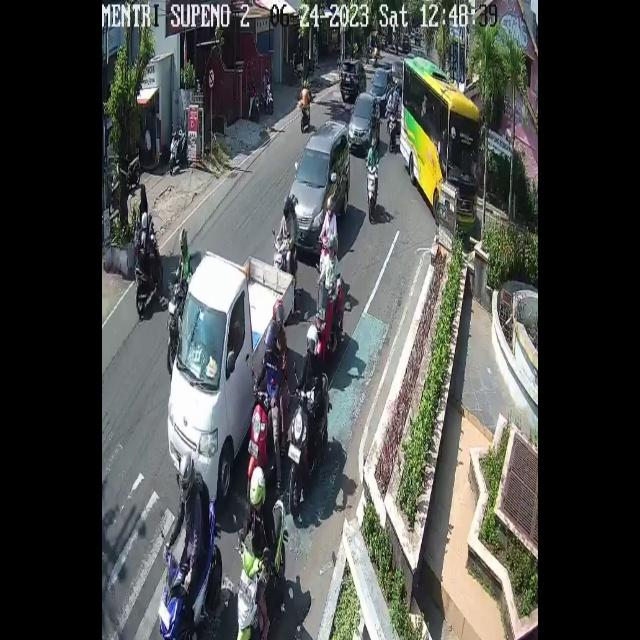bus: (158, 503, 222, 640), (236, 499, 285, 640), (290, 374, 329, 519), (249, 385, 289, 469), (136, 229, 163, 320), (316, 275, 344, 360), (165, 280, 183, 371), (366, 163, 380, 226), (300, 95, 314, 132), (273, 237, 288, 270), (388, 114, 397, 156), (262, 84, 274, 112), (249, 94, 261, 122)
car: (402, 56, 481, 234)
motorcycle: (287, 121, 351, 254), (349, 92, 381, 154), (339, 58, 367, 101), (371, 67, 393, 110)
truck: (168, 251, 295, 501)
